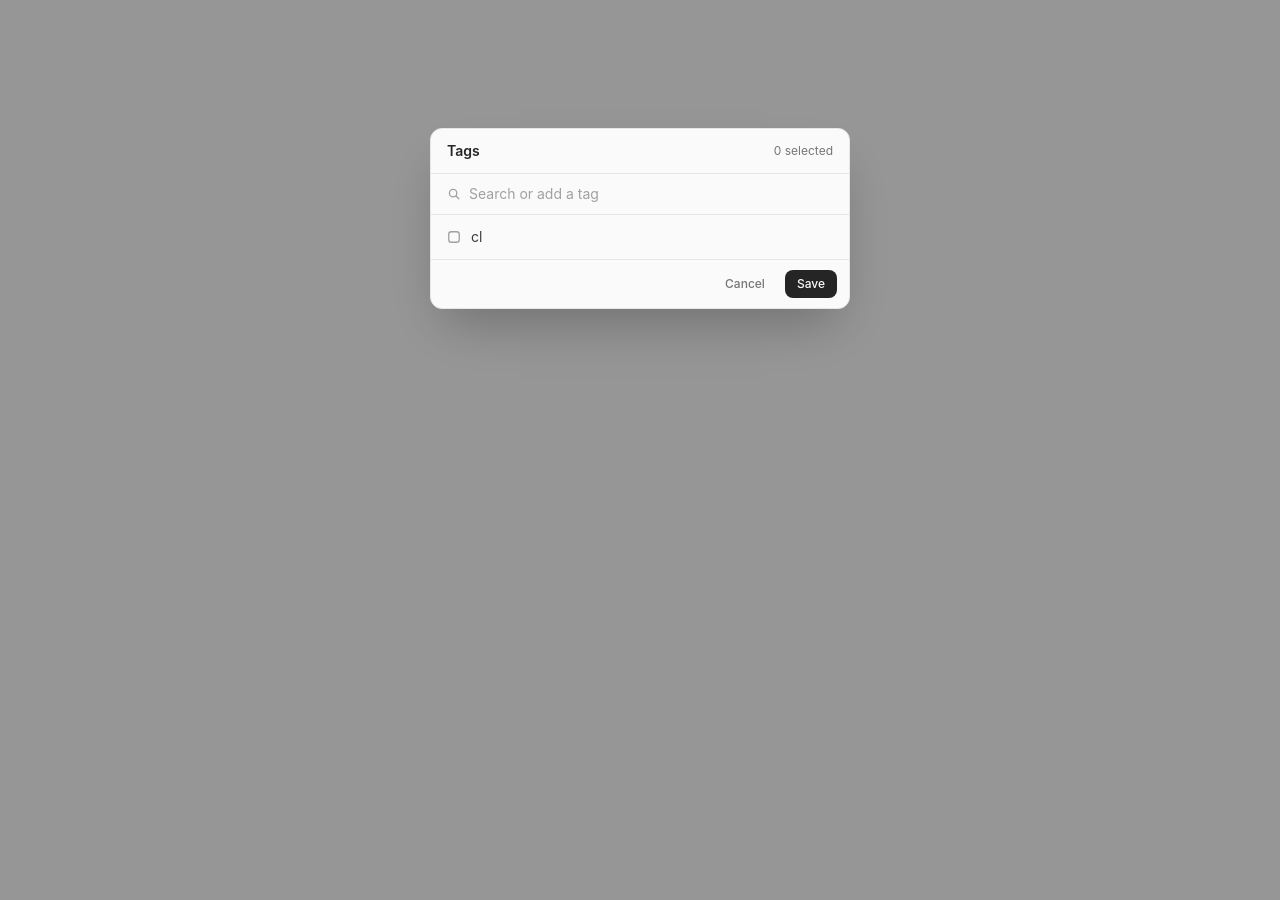
Test case: TagEditor › shows a typed tag as a checked row the moment Enter adds it
In the field labelled "Search or add a tag": (651, 194) [469,184,833,204], type "Link"
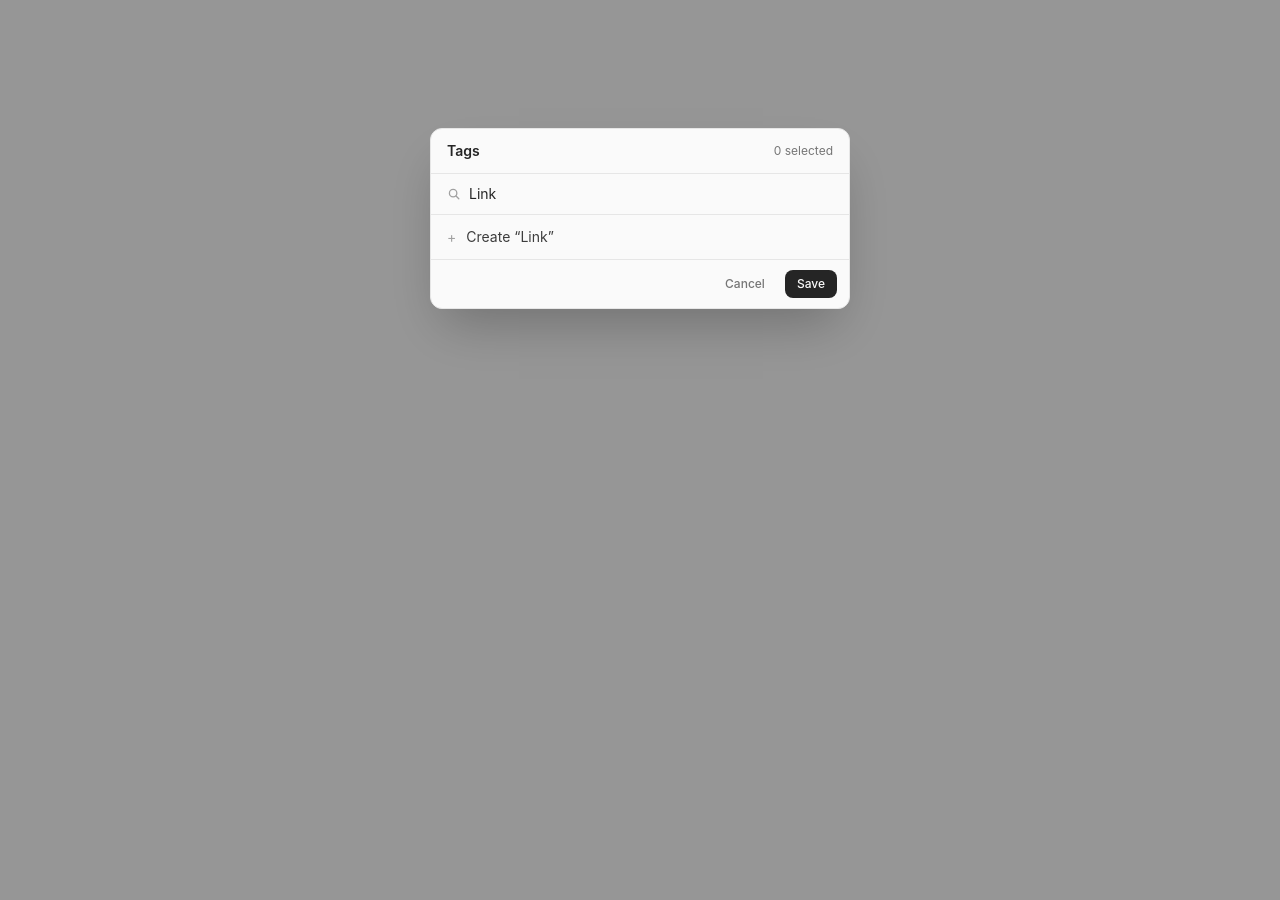
Press Enter in the field named "Search or add a tag", box [469,184,833,204]
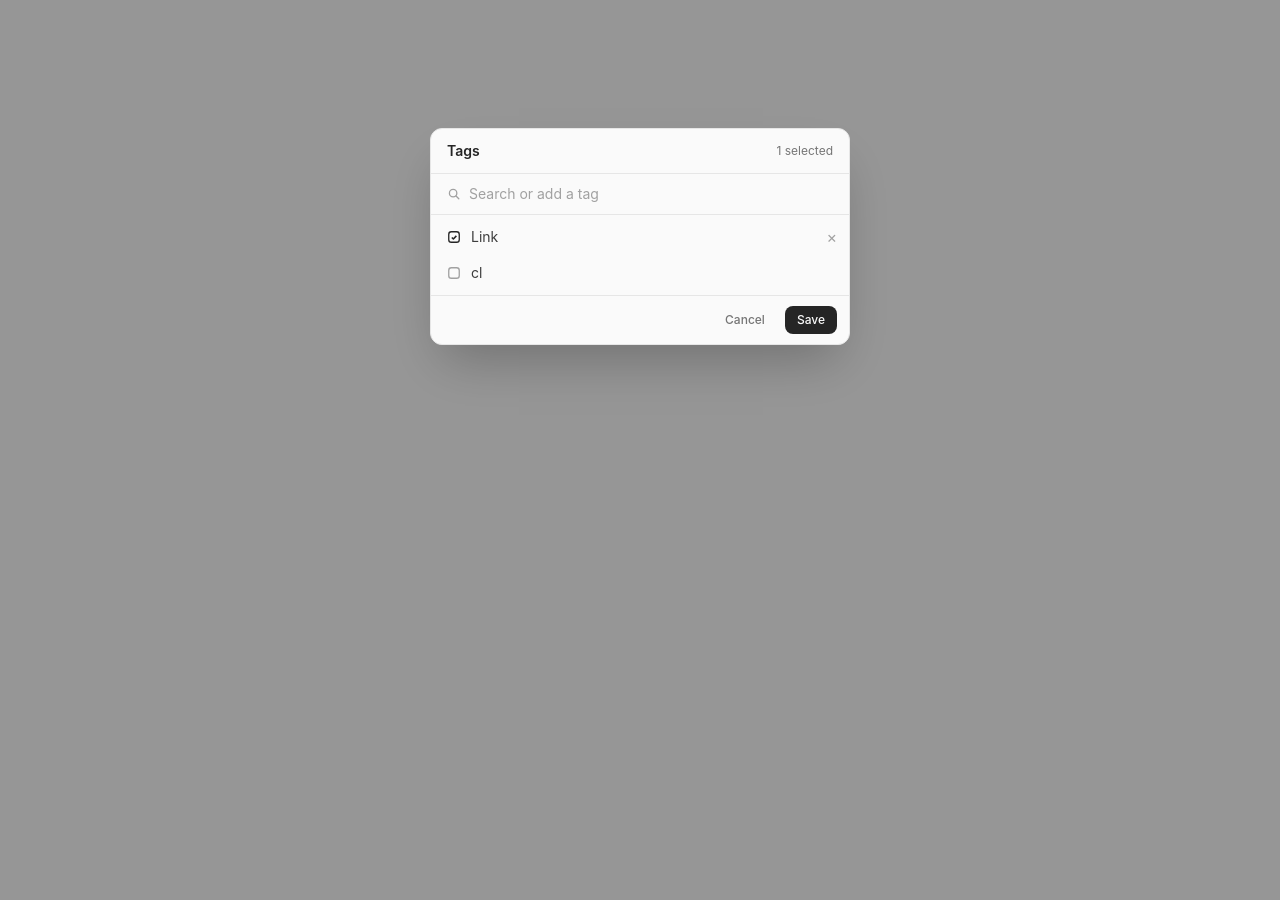
expect the text "Link" is shown: met, box [471,228,498,245]
expect the button "Create “Link”" is gone: met
expect the field labelled "Search or add a tag" is empty: met, box [469,184,833,204]
